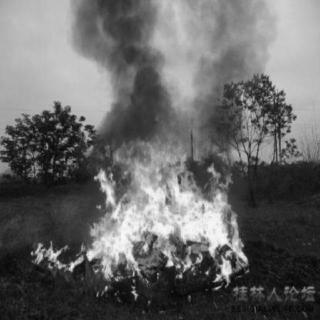Smoke: (72, 1, 238, 150)
